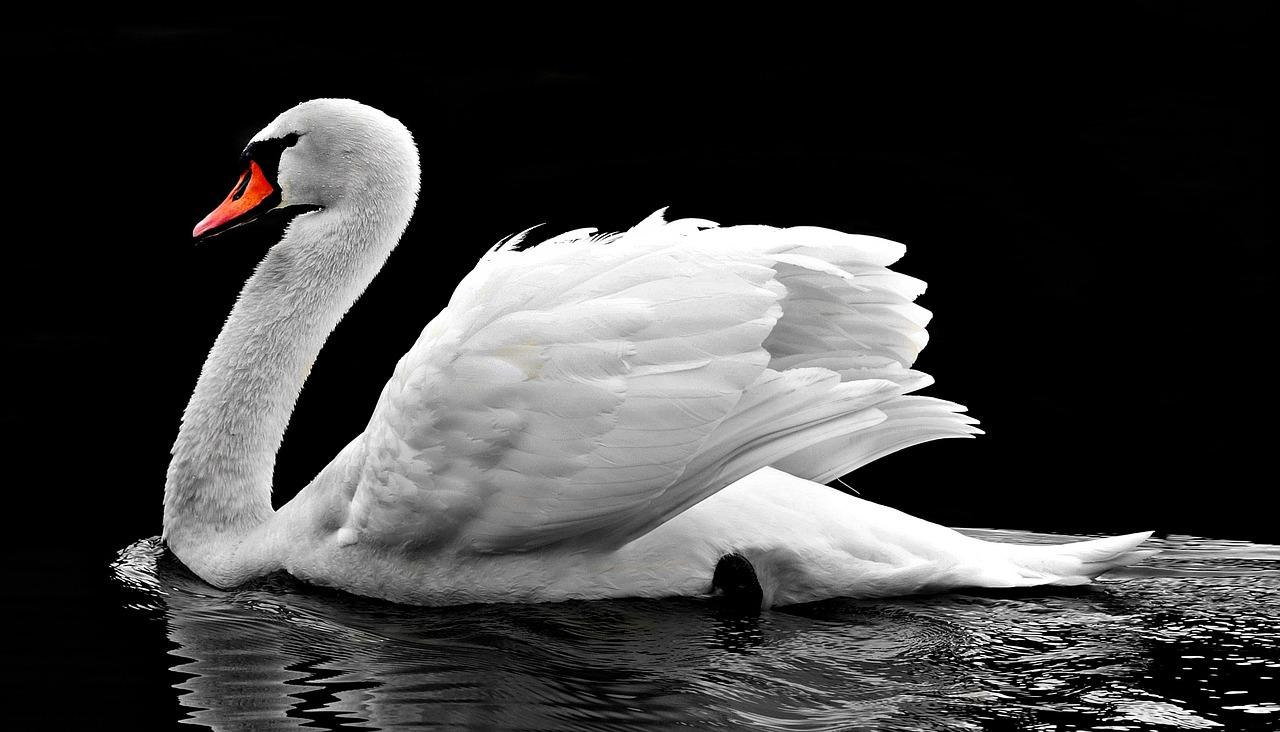bird: (163, 99, 1150, 608)
